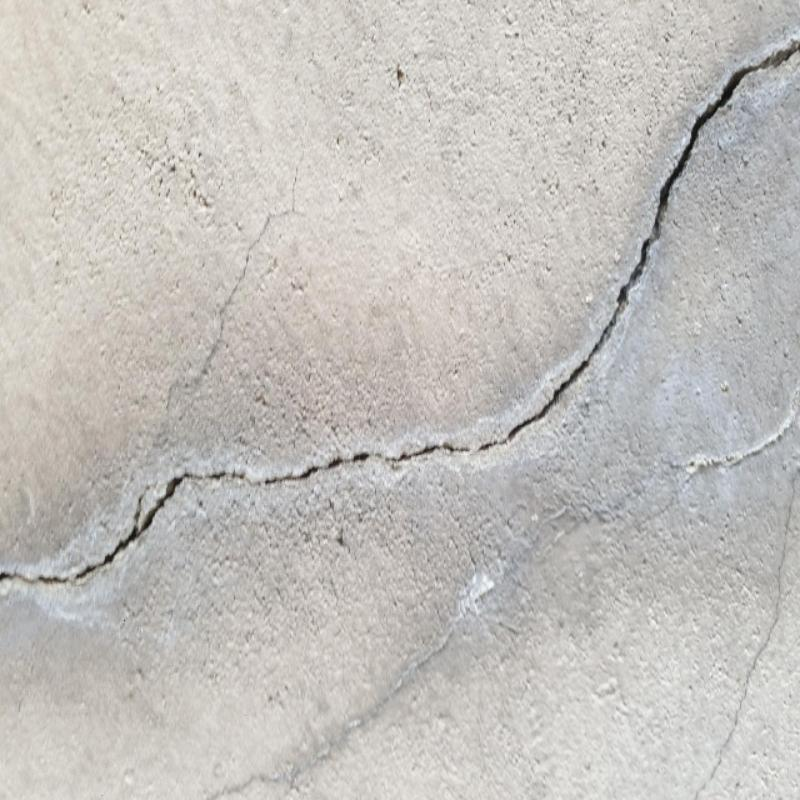crack: (2, 40, 798, 586)
